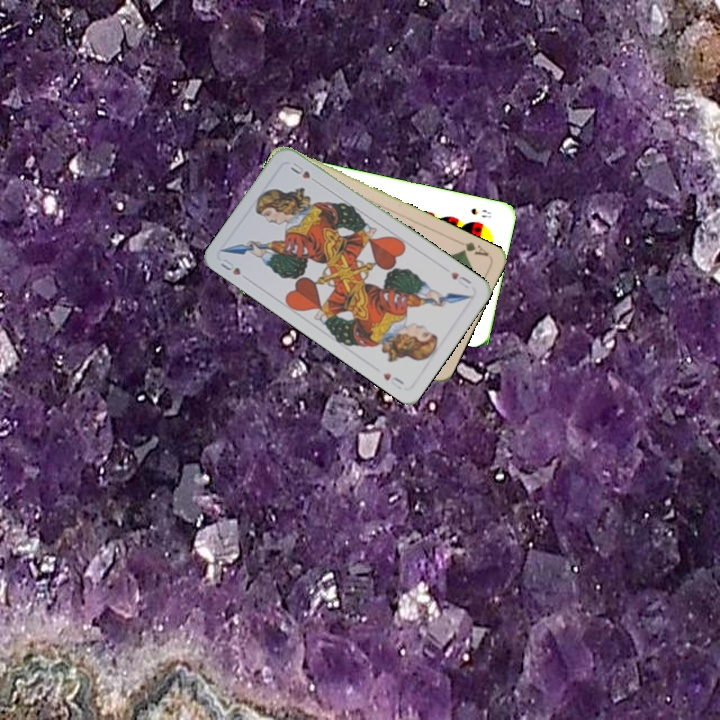GA: (453, 236, 491, 259)
HU: (216, 254, 243, 278), (446, 268, 474, 291)
S8: (467, 204, 494, 221)
